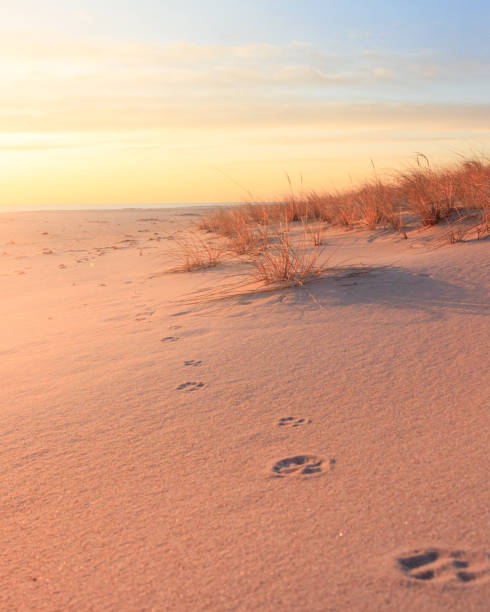animal_footprint: (396, 547, 489, 585), (271, 455, 324, 477), (277, 416, 311, 426), (177, 381, 204, 390), (135, 310, 154, 320), (161, 336, 179, 342), (184, 360, 201, 366)
